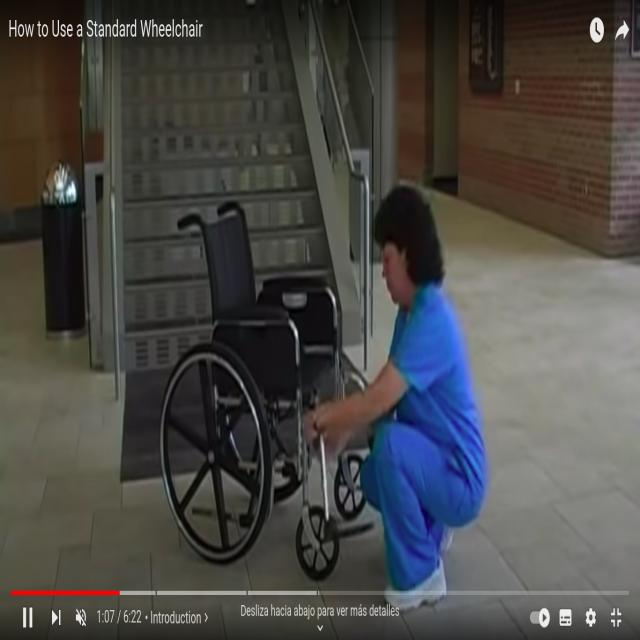wheelchairs: (172, 203, 376, 577)
